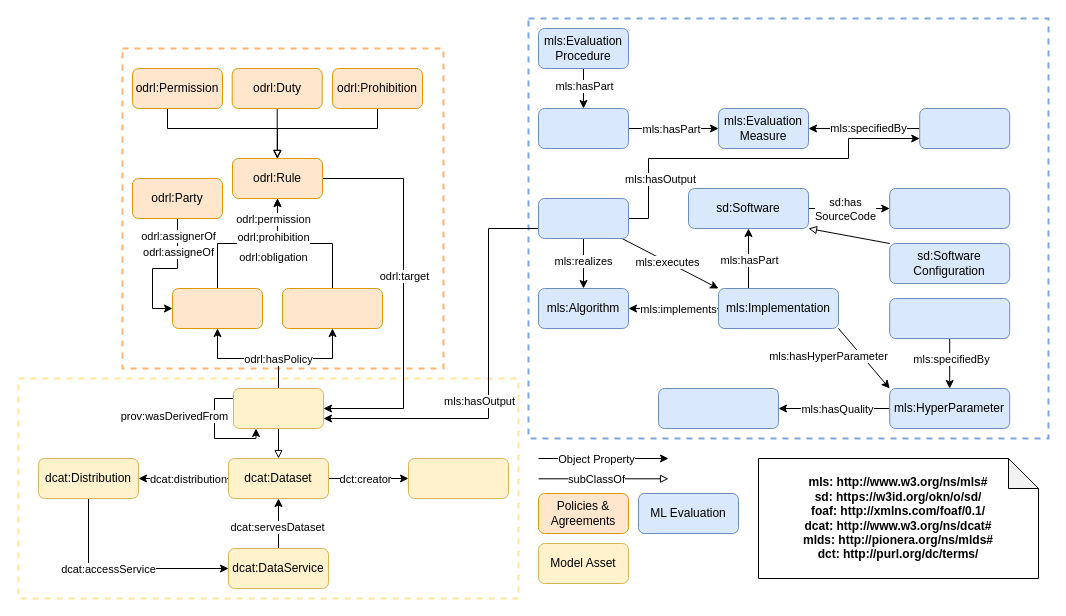
This 1066x616 diagram has some shape labels left out. The box of each missing label's shape, as (x1, y1, x2, y2) in pixels:
foaf:Agent: (408, 458, 508, 498)
mlds:Model: (232, 388, 324, 428)
mls:Evaluation Specification: (538, 108, 628, 148)
mls:HyperParameter Setting: (889, 298, 1010, 338)
mls:Model Evaluation: (919, 108, 1010, 148)
mls:Run: (538, 198, 628, 238)
mlso:HyperParameter Characteristic: (658, 388, 778, 428)
odrl:Agreement: (282, 288, 382, 328)
odrl:Offer: (172, 288, 262, 328)
sd:SourceCode: (889, 188, 1010, 228)
